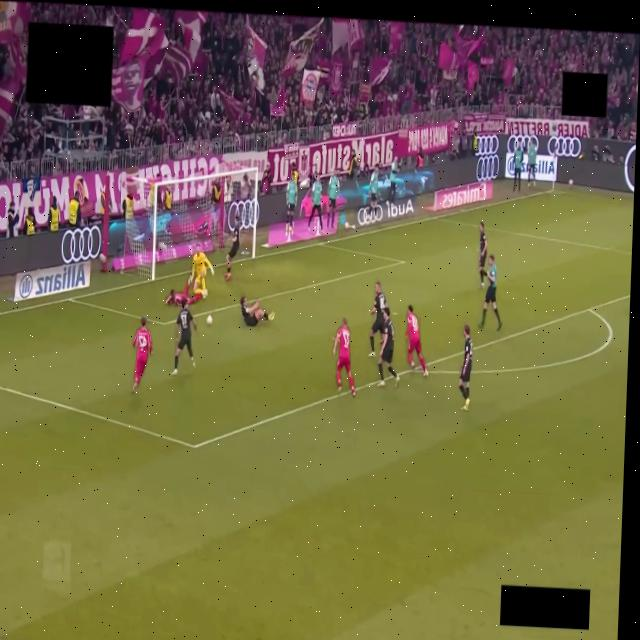ball: (206, 315, 212, 325)
player: (171, 301, 196, 376), (332, 318, 354, 397), (377, 308, 398, 387), (405, 305, 427, 376), (132, 317, 151, 392), (369, 282, 386, 357), (189, 243, 212, 298), (459, 324, 472, 411), (240, 297, 274, 326), (225, 216, 239, 280), (165, 282, 200, 305), (478, 223, 486, 288)
referee: (478, 255, 501, 330)
